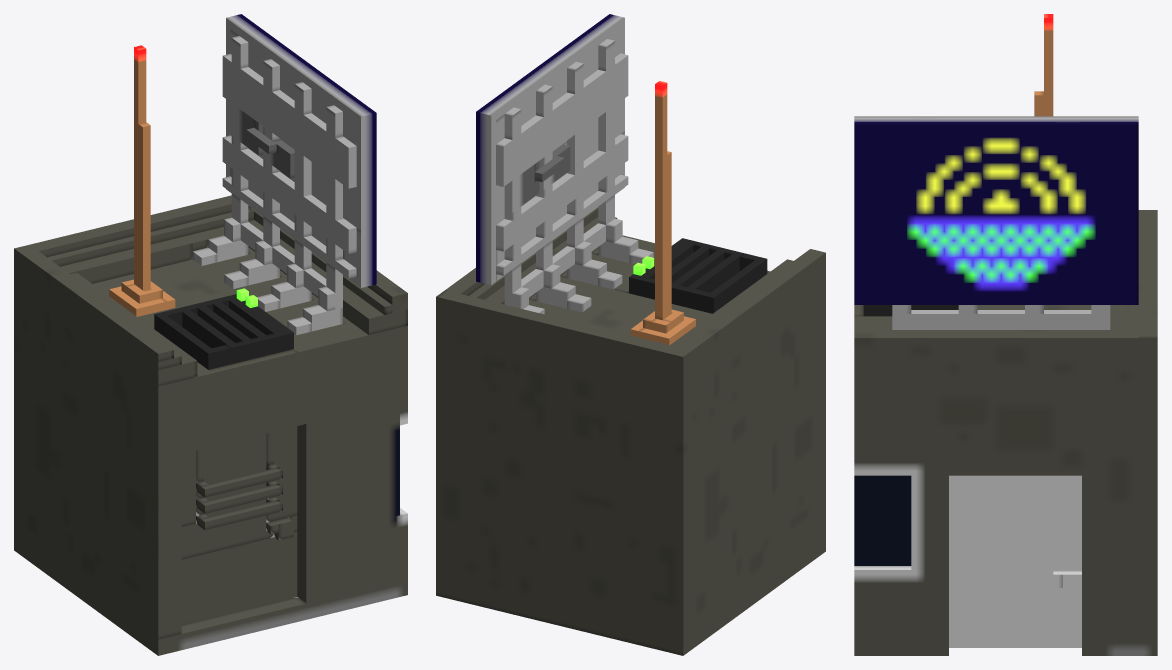
The model's file is res_góra_dorro_i_bilbord.dae.
3 renders of one model, left to right at view 1: azimuth 30°, elevation 25°; view 2: azimuth 150°, elevation 25°; view 3: azimuth 270°, elevation 25°, orthographic. The views are drawn at different scales.
Visible parts, largest first — view 1: Content; view 2: Content; view 3: Content.
Boxes of the visible parts, x1=… form: Content: x1=14, y1=14, x2=407, y2=655; Content: x1=436, y1=14, x2=825, y2=655; Content: x1=854, y1=14, x2=1157, y2=655.
Size of the model in its own units: 32 by 64 by 32.
Materials: 1 (1 with a texture image).
